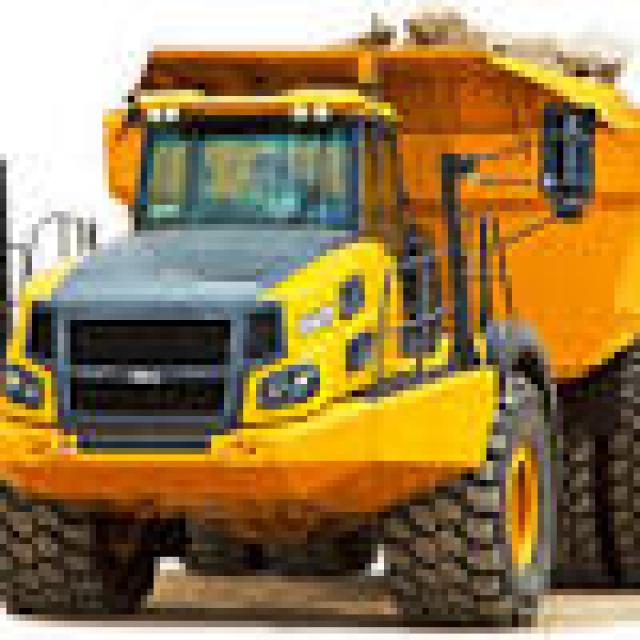dump_truck: (12, 19, 634, 595)
